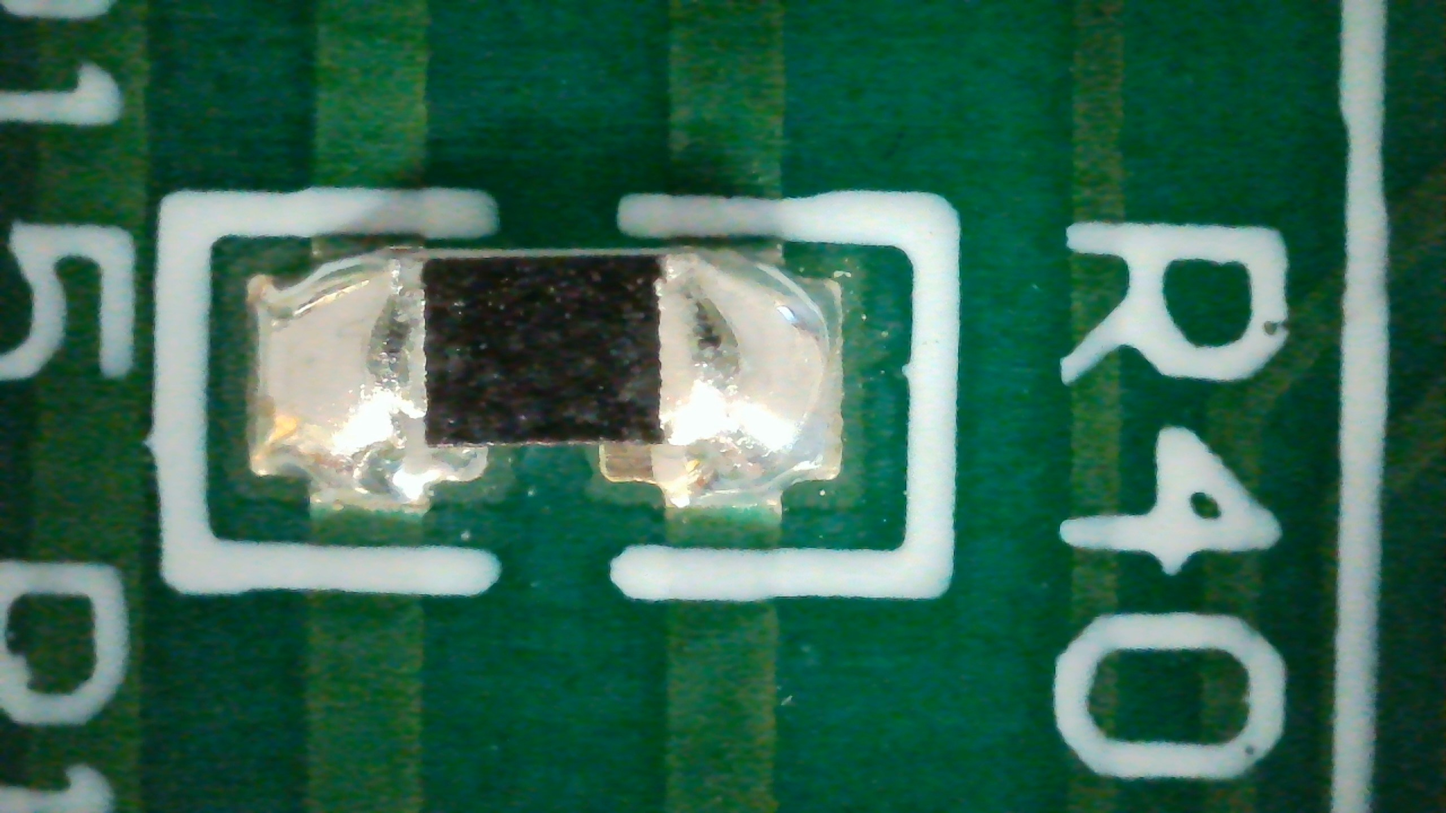NG: (250, 246, 842, 510)
